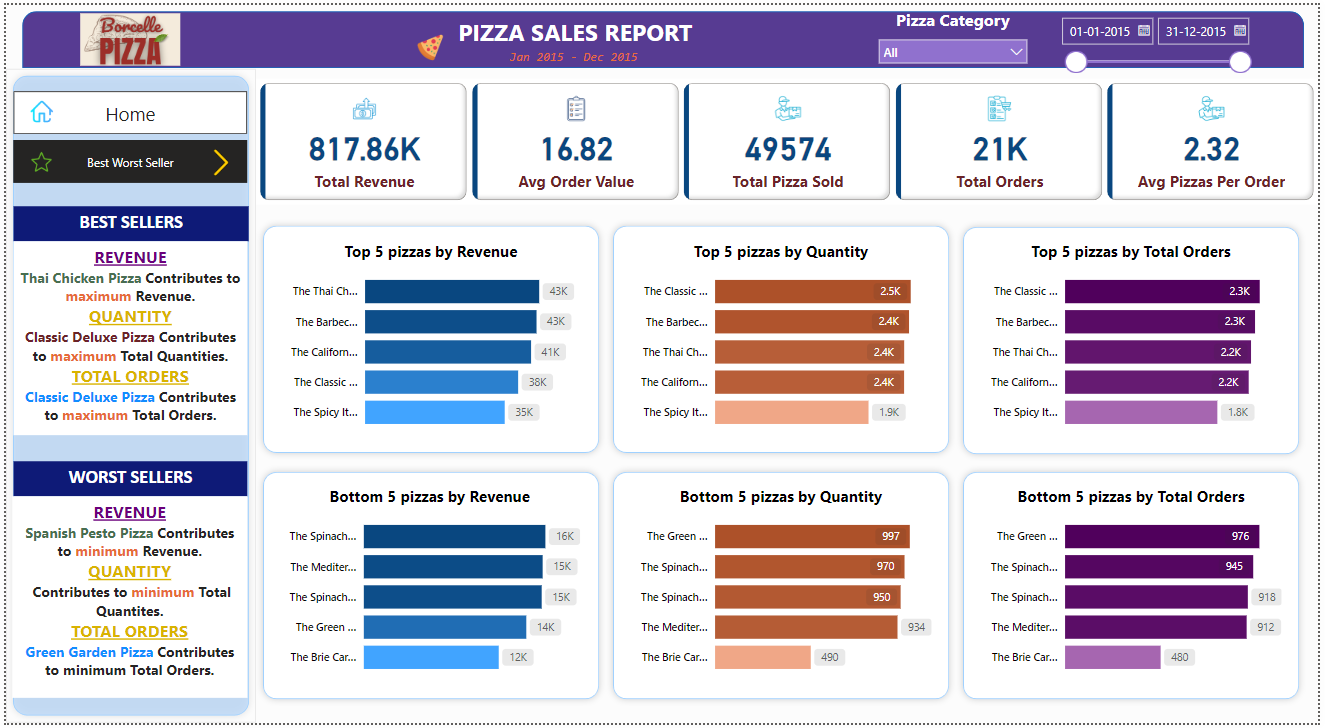

The dashboard page shown, as its layout file describes it:
{"tool":"powerbi","page":{"name":"Best Worst Seller","canvas":[1500,820],"ordinal":1},"visuals":[{"type":"shape","box":[0,72.9,285.7,747.1],"z":0},{"type":"cardVisual","fields":{"Data":["pizza_sales.Total Revenue","pizza_sales.avg__order_value","pizza_sales.total_pizza_order","pizza_sales.total_orders","pizza_sales.Avg_pizzas_per_order"]},"box":[285.7,84.3,1214.3,144.3],"z":1000},{"type":"shape","box":[18.3,6.7,1465,65],"z":2000},{"type":"textbox","box":[484.3,7.1,332.9,45.7],"z":3000},{"type":"textbox","box":[547.1,44.3,202.9,30],"z":4000},{"type":"image","box":[460,28.6,50,40],"z":5000},{"type":"shape","box":[285.7,244.3,400,275.7],"z":6000},{"type":"shape","box":[685.7,244.3,400,275.7],"z":7000},{"type":"shape","box":[285.7,525.7,400,275.7],"z":8000},{"type":"textbox","box":[8.6,230,268.6,40],"z":9000},{"type":"textbox","box":[8.6,270,267.1,221.4],"z":10000},{"type":"textbox","box":[8.6,521.4,267.1,40],"z":11000},{"type":"textbox","box":[7.1,561.4,268.6,230],"z":12000},{"type":"slicer","title":"Pizza Category","fields":{"Values":["pizza_sales.pizza_category"]},"box":[987.1,4.3,190,65.7],"z":13000},{"type":"slicer","title":"Order Date","fields":{"Values":["pizza_sales.order_date"]},"box":[1194.3,4.3,237.1,80],"z":14000},{"type":"shape","box":[685.7,525.7,400,275.7],"z":15000},{"type":"shape","box":[1085.7,525.7,400,275.7],"z":16000},{"type":"shape","box":[1085.7,245.7,400,275.7],"z":17000},{"type":"barChart","title":"Top 5 pizzas by Revenue","fields":{"Category":["pizza_sales.pizza_name"],"Y":["pizza_sales.Total Revenue"]},"box":[308.6,270,354.3,228.6],"z":18000},{"type":"barChart","title":"Bottom 5 pizzas by Revenue","fields":{"Category":["pizza_sales.pizza_name"],"Y":["pizza_sales.Total Revenue"]},"box":[307.1,550,354.3,228.6],"z":19000},{"type":"barChart","title":"Bottom 5 pizzas by Quantity","fields":{"Category":["pizza_sales.pizza_name"],"Y":["Sum(pizza_sales.quantity)"]},"box":[708.6,550,354.3,228.6],"z":20000},{"type":"barChart","title":"Bottom 5 pizzas by Total Orders","fields":{"Category":["pizza_sales.pizza_name"],"Y":["pizza_sales.Total Orders"]},"box":[1108.6,550,354.3,228.6],"z":21000},{"type":"clusteredBarChart","title":"Top 5 pizzas by Quantity","fields":{"Category":["pizza_sales.pizza_name"],"Y":["Sum(pizza_sales.quantity)"]},"box":[708.6,270,354.3,228.6],"z":22000},{"type":"barChart","title":"Top 5 pizzas by Total Orders","fields":{"Category":["pizza_sales.pizza_name"],"Y":["pizza_sales.Total Orders"]},"box":[1108.6,270,354.3,228.6],"z":23000},{"type":"pageNavigator","box":[8.2,98.2,267.3,50],"z":24000},{"type":"pageNavigator","box":[8.2,154.5,267.3,50],"z":25000},{"type":"image","box":[18.6,104.3,44.3,35.7],"z":26000},{"type":"image","box":[224.3,160,42.9,40],"z":27000},{"type":"image","box":[18.6,162.9,44.3,32.9],"z":28000},{"type":"image","box":[80,1.4,124.3,75.7],"z":29000}]}

Visuals, with their boxes in screenshot pixels (x1, y1, x2, y2), scaled from the page's 1500x820 canvas onto the 1325x728 screenshot:
shape: x1=0 y1=65 x2=252 y2=727
cardVisual - pizza_sales.Total Revenue x pizza_sales.avg__order_value: x1=252 y1=75 x2=1324 y2=203
shape: x1=16 y1=6 x2=1310 y2=64
textbox: x1=428 y1=6 x2=722 y2=47
textbox: x1=483 y1=39 x2=662 y2=66
image: x1=406 y1=25 x2=450 y2=61
shape: x1=252 y1=217 x2=606 y2=462
shape: x1=606 y1=217 x2=959 y2=462
shape: x1=252 y1=467 x2=606 y2=711
textbox: x1=8 y1=204 x2=245 y2=240
textbox: x1=8 y1=240 x2=244 y2=436
textbox: x1=8 y1=463 x2=244 y2=498
textbox: x1=6 y1=498 x2=244 y2=703
"Pizza Category" slicer: x1=872 y1=4 x2=1040 y2=62
"Order Date" slicer: x1=1055 y1=4 x2=1264 y2=75
shape: x1=606 y1=467 x2=959 y2=711
shape: x1=959 y1=467 x2=1312 y2=711
shape: x1=959 y1=218 x2=1312 y2=463
"Top 5 pizzas by Revenue" barChart: x1=273 y1=240 x2=586 y2=443
"Bottom 5 pizzas by Revenue" barChart: x1=271 y1=488 x2=584 y2=691
"Bottom 5 pizzas by Quantity" barChart: x1=626 y1=488 x2=939 y2=691
"Bottom 5 pizzas by Total Orders" barChart: x1=979 y1=488 x2=1292 y2=691
"Top 5 pizzas by Quantity" clusteredBarChart: x1=626 y1=240 x2=939 y2=443
"Top 5 pizzas by Total Orders" barChart: x1=979 y1=240 x2=1292 y2=443
pageNavigator: x1=7 y1=87 x2=243 y2=132
pageNavigator: x1=7 y1=137 x2=243 y2=182
image: x1=16 y1=93 x2=56 y2=124
image: x1=198 y1=142 x2=236 y2=178
image: x1=16 y1=145 x2=56 y2=174
image: x1=71 y1=1 x2=180 y2=68
